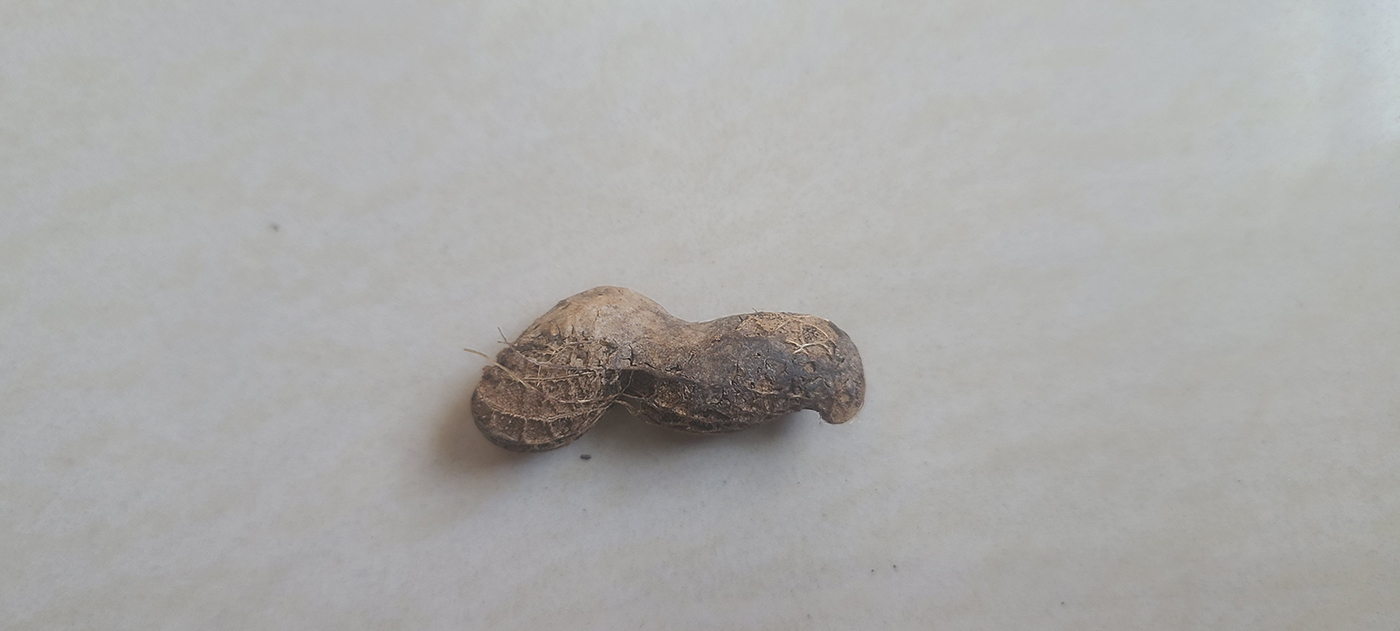l: (466, 282, 866, 454)
